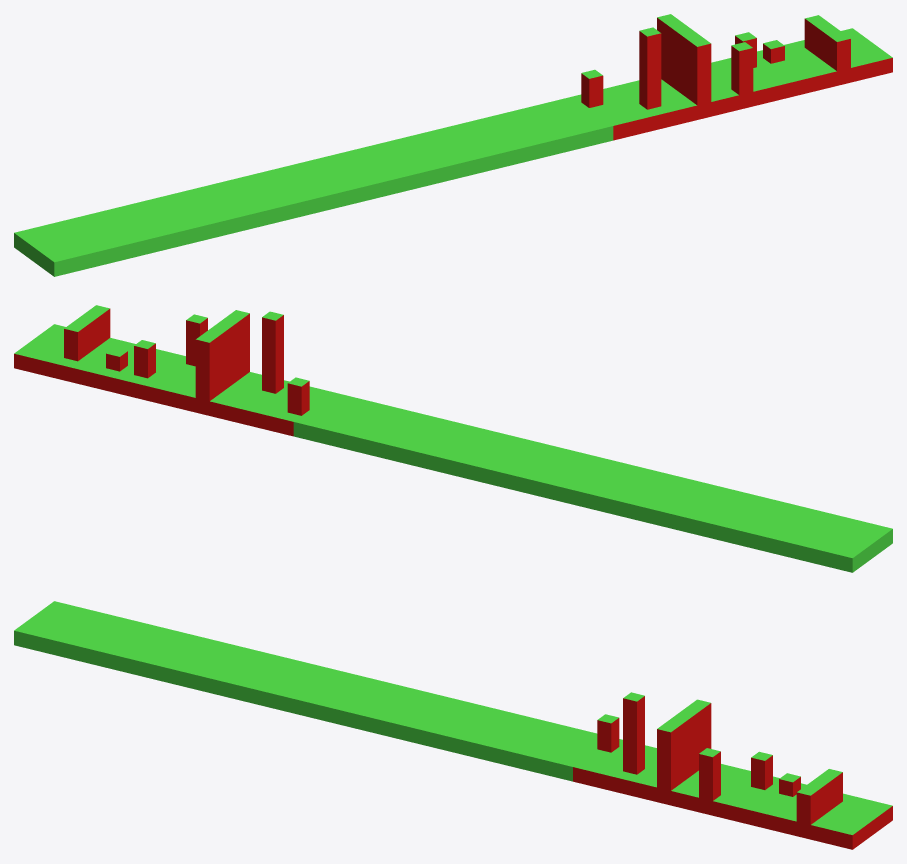
The model's file is testmap2.glb.
3 renders of one model, top to bottom at view 1: azimuth 30°, elevation 25°; view 2: azimuth 150°, elevation 25°; view 3: azimuth 330°, elevation 25°, orthographic.
Visible parts, largest first — view 1: Cube.002, Cube, INSTAKILL, SAFEGROUND; view 2: Cube.002, Cube, INSTAKILL, SAFEGROUND; view 3: Cube.002, Cube, INSTAKILL, SAFEGROUND.
Part boxes in pixels (<box>): Cube.002: <box>14,164,333,276</box>; Cube: <box>294,96,613,208</box>; INSTAKILL: <box>581,17,892,140</box>; SAFEGROUND: <box>573,14,892,125</box>; Cube.002: <box>573,460,892,572</box>; Cube: <box>293,392,612,504</box>; INSTAKILL: <box>14,309,309,436</box>; SAFEGROUND: <box>14,305,333,421</box>; Cube.002: <box>14,601,333,713</box>; Cube: <box>293,669,597,781</box>; INSTAKILL: <box>573,696,892,849</box>; SAFEGROUND: <box>573,692,892,834</box>.
Size of the model in its own units: 60 by 6 by 5.
